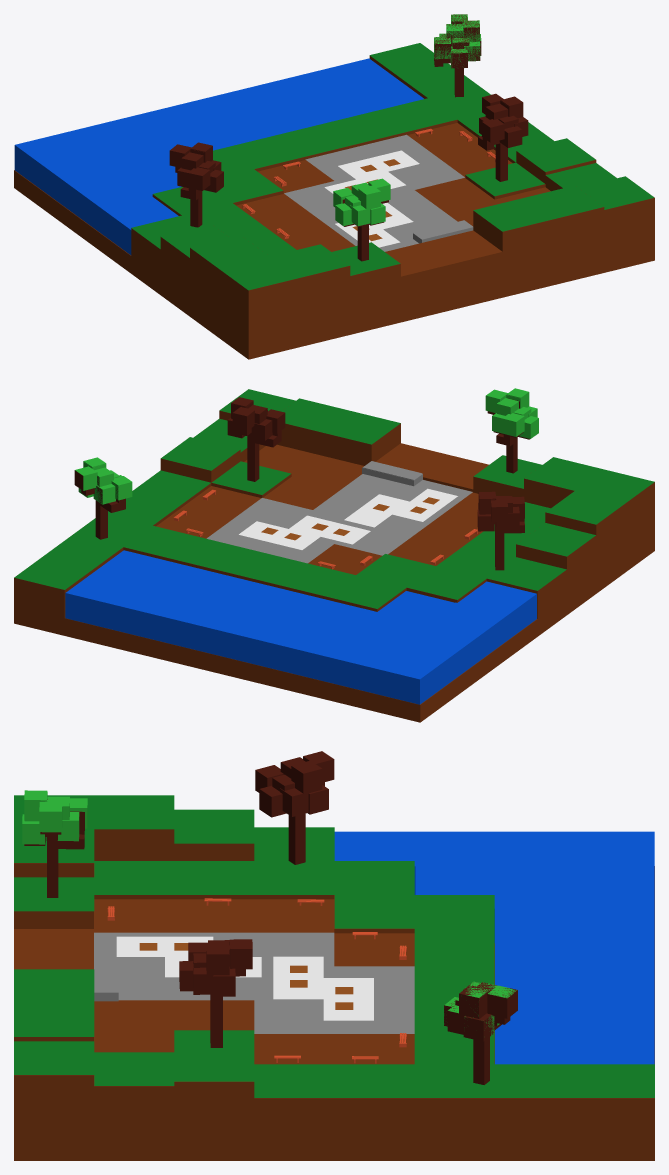
File: digiPark.gltf
3 renders of one model, top to bottom at view 1: azimuth 30°, elevation 25°; view 2: azimuth 150°, elevation 25°; view 3: azimuth 270°, elevation 25°, orthographic. The views are drawn at different scales.
Visible parts, largest first — view 1: Park, Trees; view 2: Park, Trees, Chair; view 3: Park, Trees, Chair.
Part boxes in pixels (x1,y1,x2,y2): Park: (14,43,654,359); Trees: (169,14,528,261); Park: (14,389,654,722); Trees: (74,388,538,570); Chair: (173,489,477,569); Park: (14,795,654,1160); Trees: (22,751,517,1084); Chair: (107,898,406,1063).
Size of the model in its own units: 63.12 by 19.63 by 63.11.
